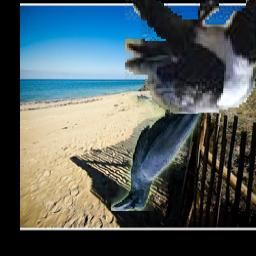Crow: (126, 0, 256, 115), (111, 80, 209, 212)
